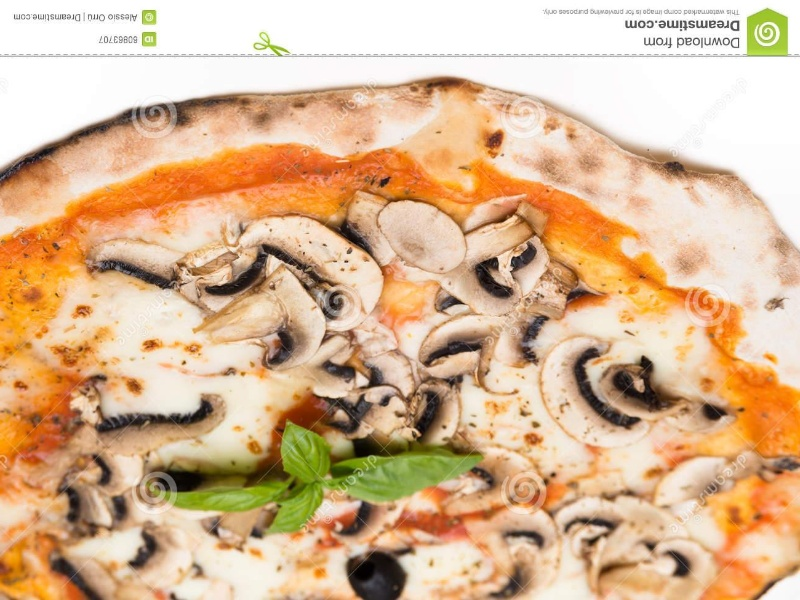champignon: (239, 209, 392, 332), (191, 262, 329, 375), (534, 323, 657, 449), (429, 209, 540, 315), (414, 311, 537, 403), (88, 392, 242, 462), (78, 229, 198, 301)
olive: (334, 544, 429, 600)
